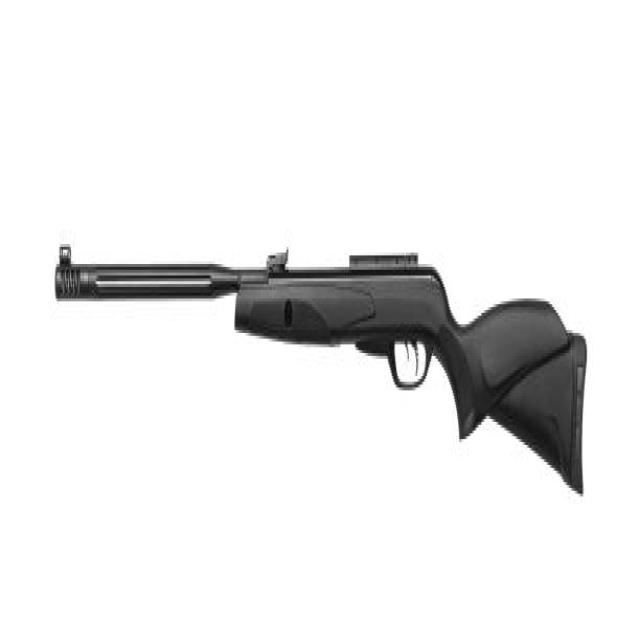rifle: (49, 222, 597, 518)
